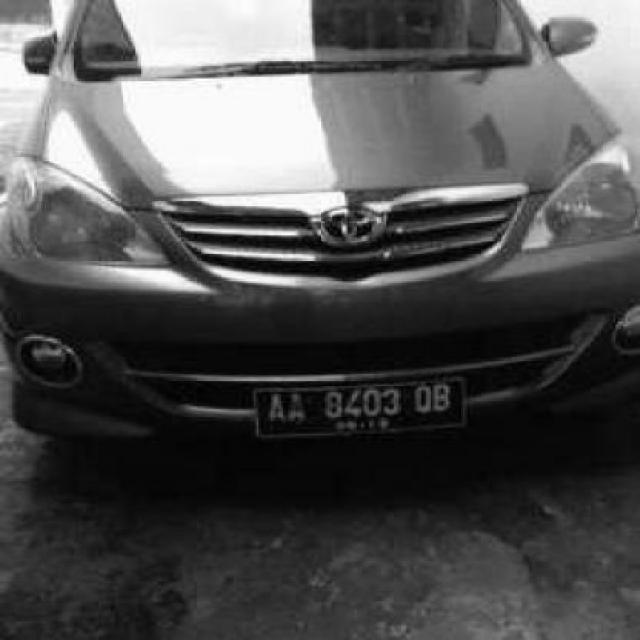0: (364, 390, 383, 418)
3: (383, 390, 407, 420)
4: (347, 388, 366, 414)
8: (321, 388, 342, 424)
A: (286, 392, 312, 423), (266, 392, 286, 424)
B: (436, 381, 456, 419)
Q: (414, 384, 431, 416)
